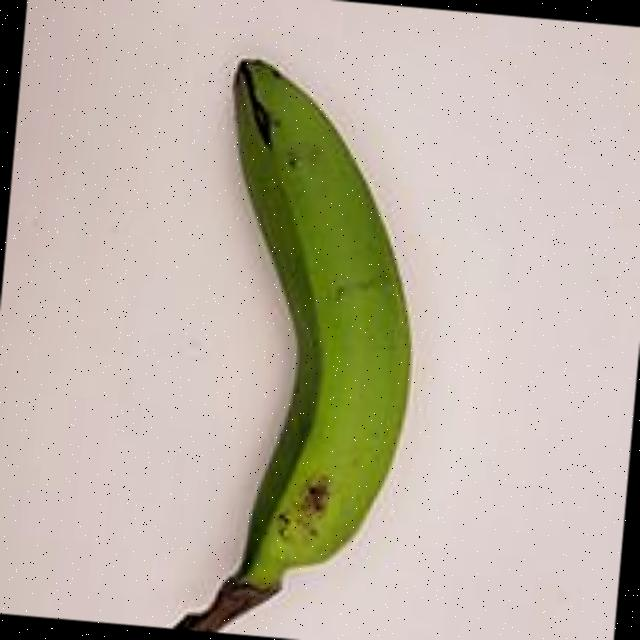Raw: (98, 8, 459, 640)
